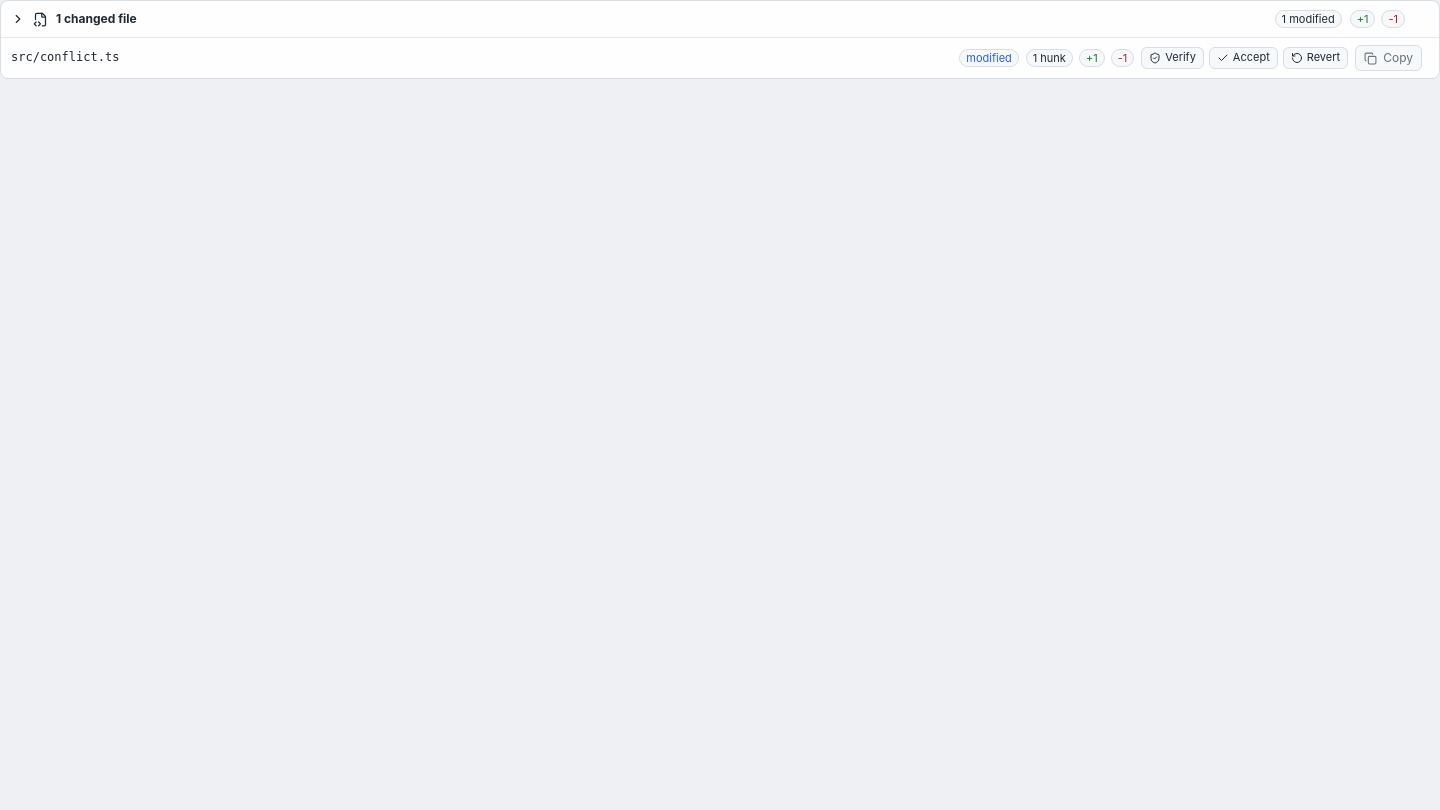
Test: CurrentTurnChangeCard › marks action conflicts when the backend rejects a stale workspace hash
The image size is (1440, 810).
Click the button "Revert".
click(1316, 58)  # box [1283,47,1348,69]
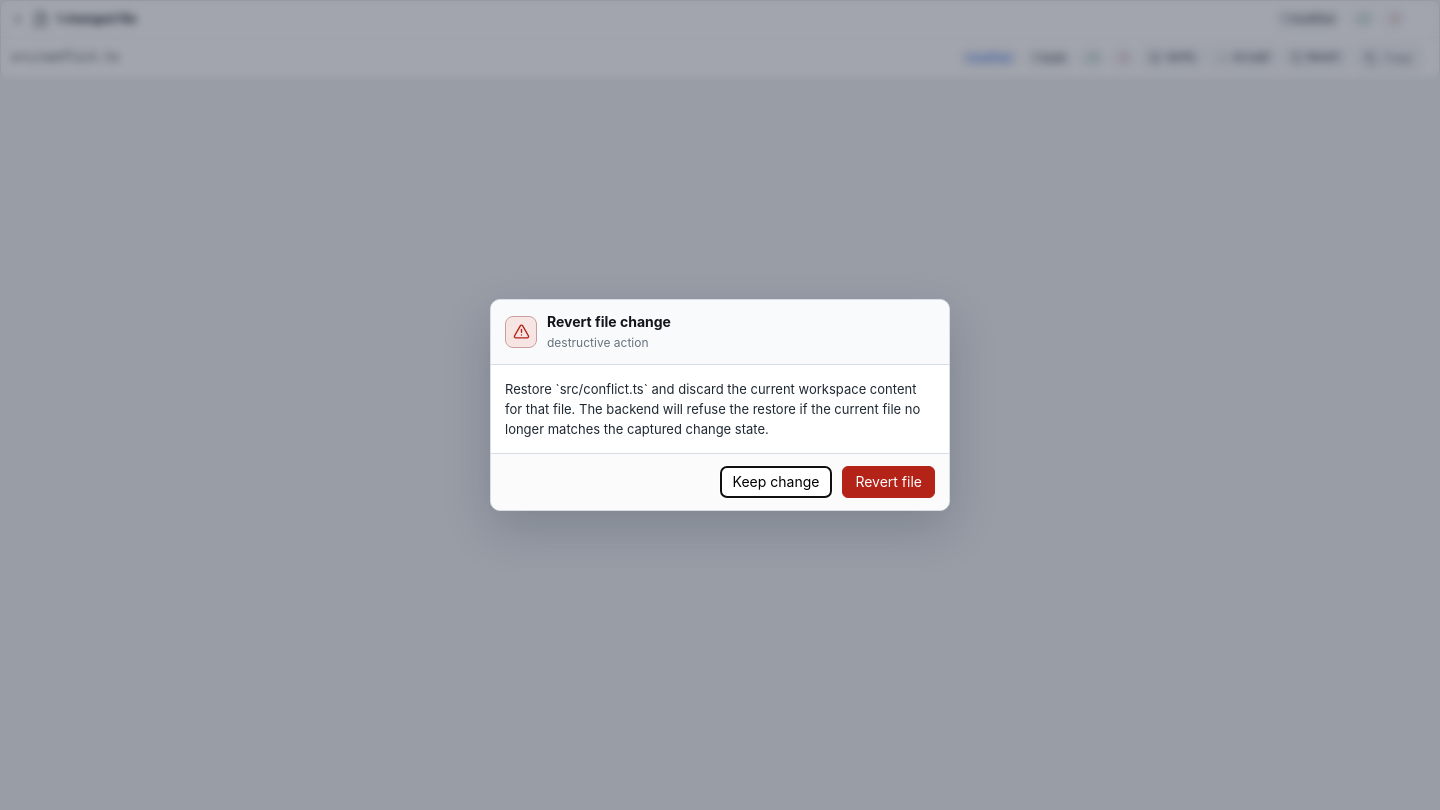
Expected: the dialog "Revert file change" is shown, [490,299,950,511]
Click the button "Revert file".
click(889, 482)  # box [842,466,935,498]
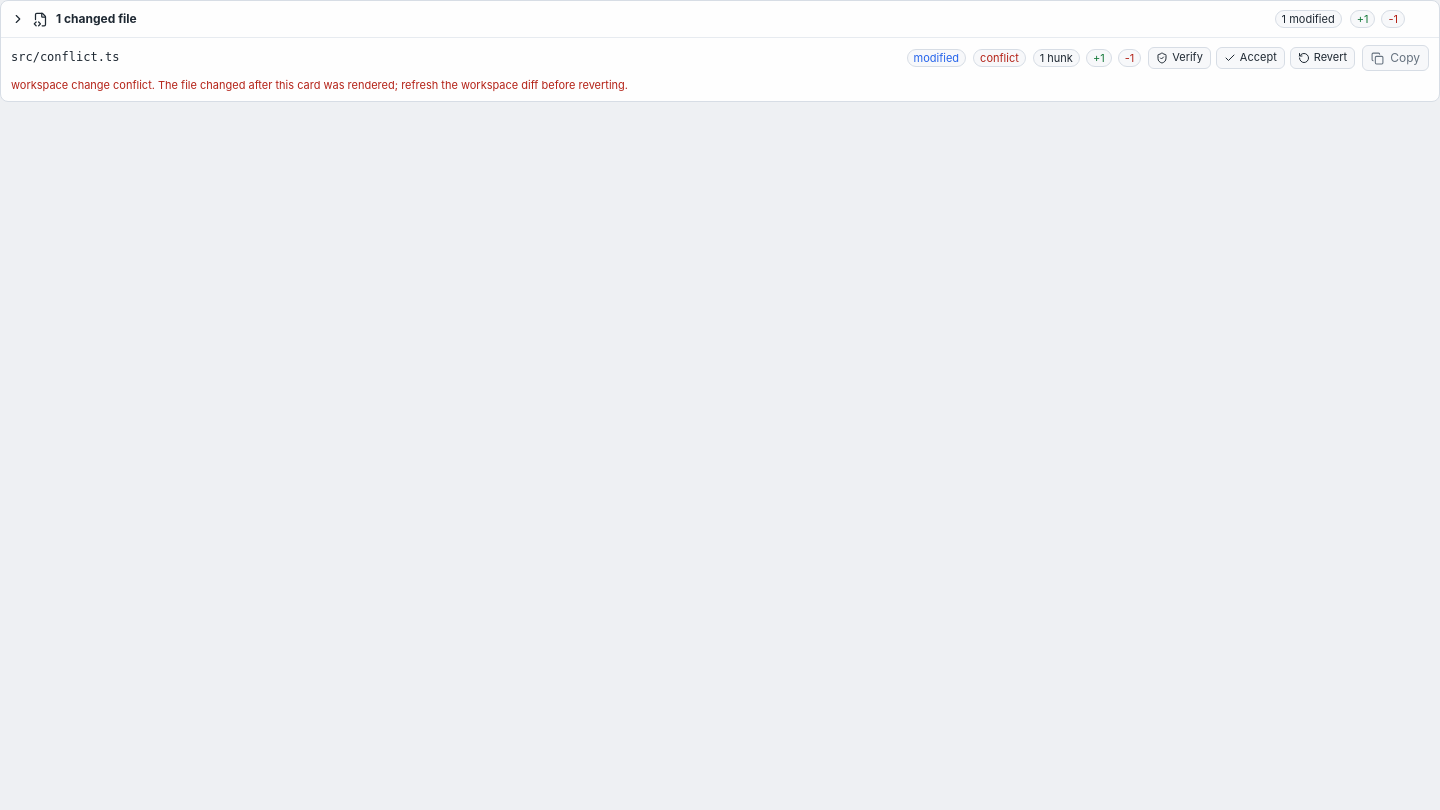
Expected: the text "conflict" is shown, [973,49,1026,67]
Expected: the text "changed after this card was rendered" is shown, [11,78,628,92]
